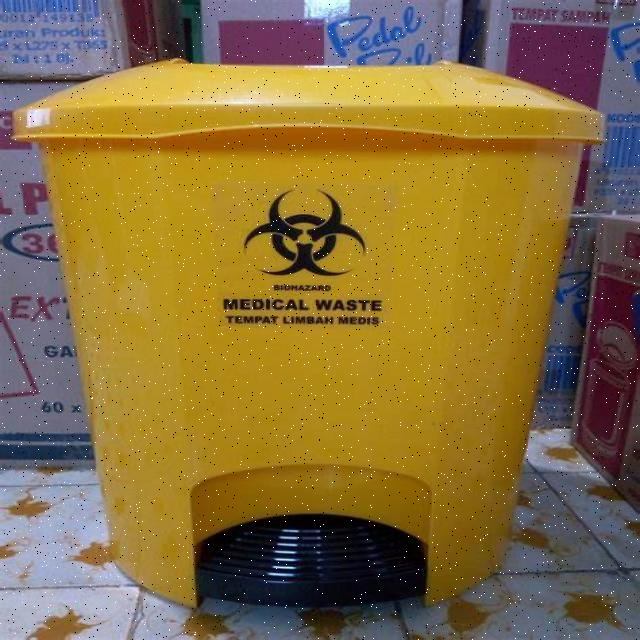garbage container: (9, 52, 609, 626)
